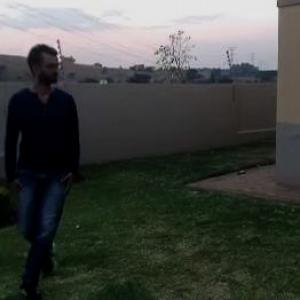follow: (19, 35, 90, 290)
